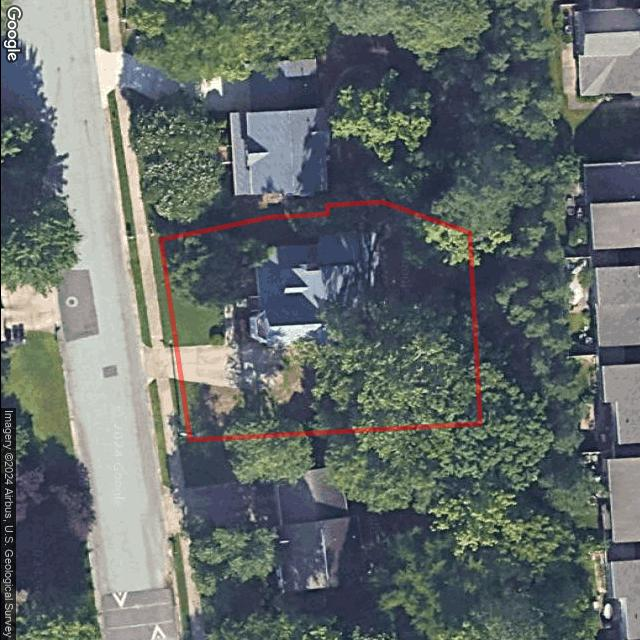Driveway: (177, 344, 325, 397)
Extra-Driveway: (141, 343, 182, 383)
Extra-Lawn: (149, 238, 175, 347), (128, 247, 152, 347), (171, 379, 191, 442), (147, 380, 166, 444)
Extra-Sidewalk: (136, 241, 164, 347), (157, 380, 179, 445)
House: (251, 229, 388, 348)
Lawn: (160, 201, 480, 439)
Sidewalk: (221, 295, 256, 346)
